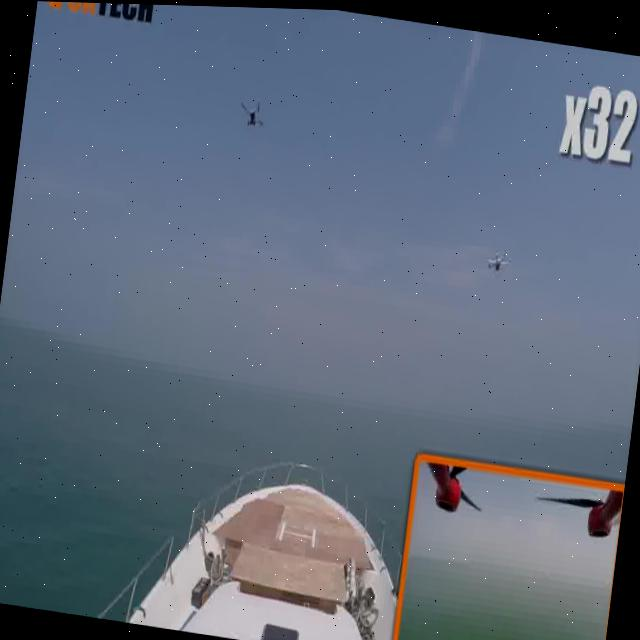drone: (216, 69, 280, 150), (476, 231, 515, 280)
